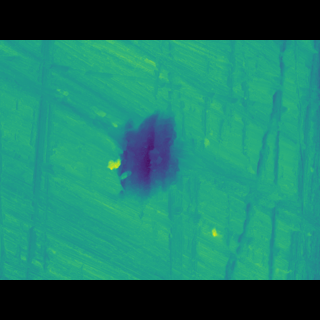Loch: (0, 71, 318, 131), (102, 118, 184, 196), (21, 69, 55, 250)
